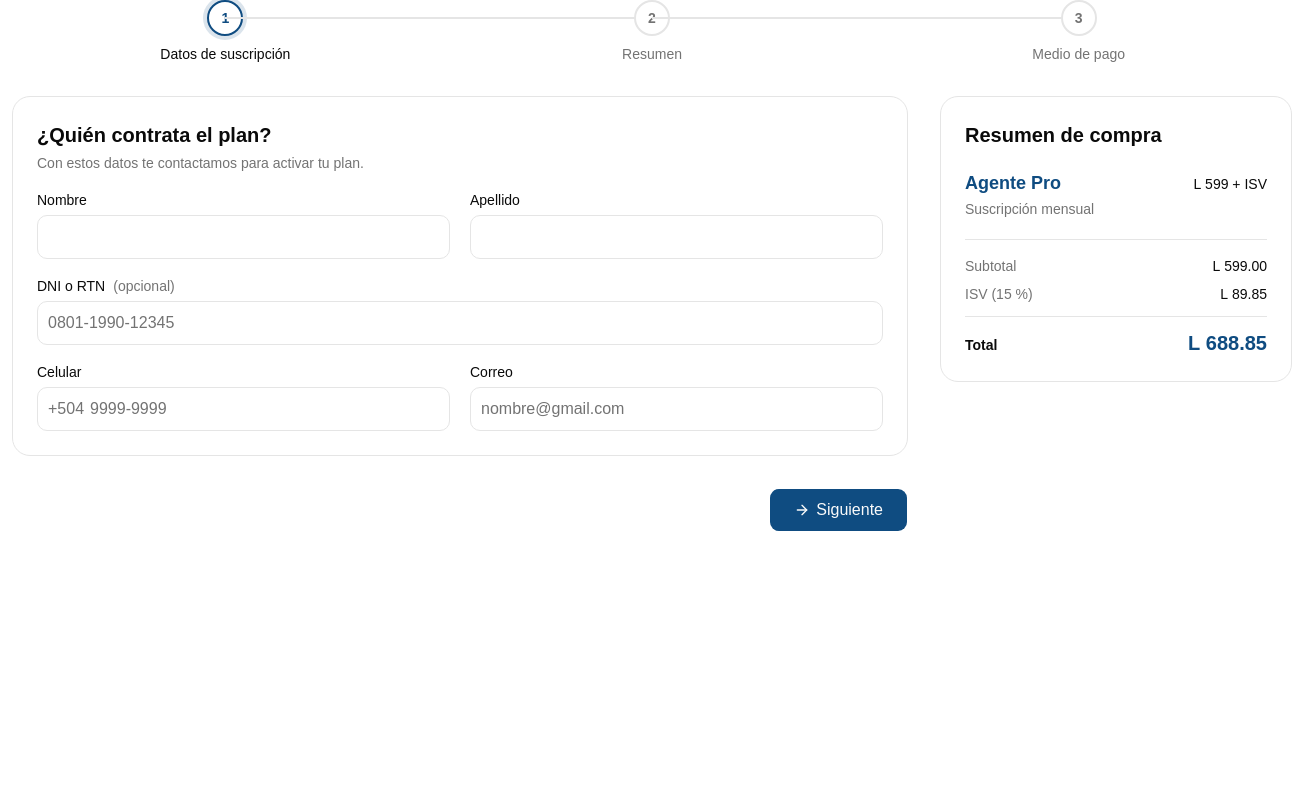
Scenario: CheckoutSteps › no deja pasar del paso 1 sin los datos y señala lo que falta, salvo el documento
This screenshot has width=1292, height=800.
What coordinates should you click on to do the following:
click the button "Siguiente"
I would click on:
 (839, 510)
Its box is top-left (769, 488), bottom-right (908, 532).
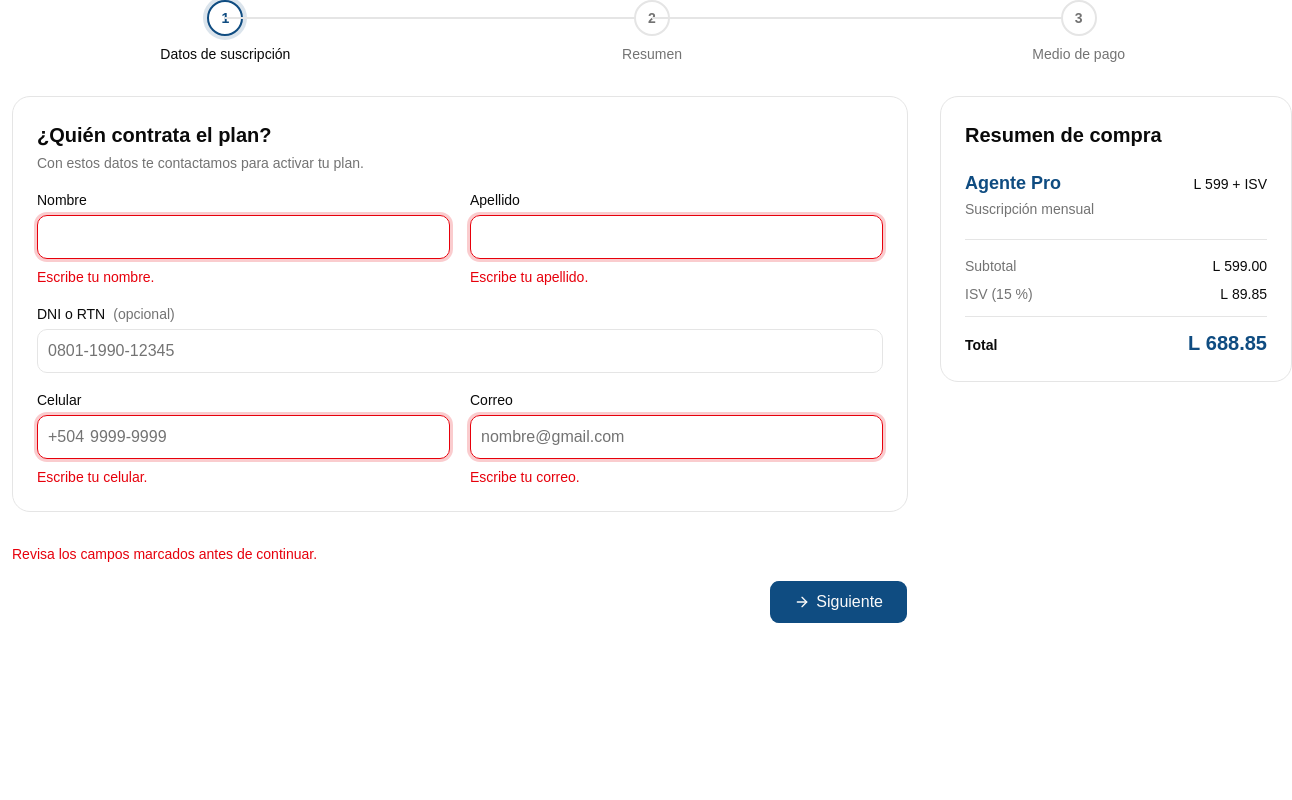
Expected: the text "Revisa los campos marcados antes de continuar." is shown, top-left (12, 546), bottom-right (317, 562)
